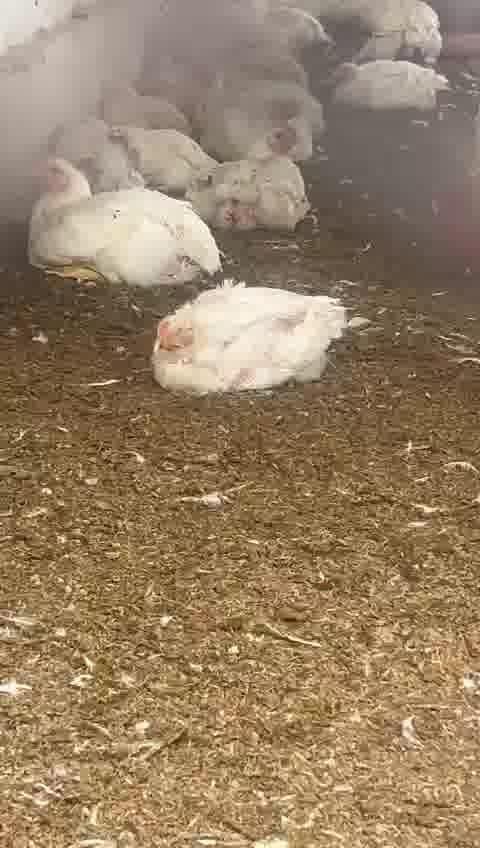AbNormal: (146, 276, 348, 390), (72, 124, 207, 180), (327, 57, 460, 109)
Normal: (25, 158, 216, 294), (210, 124, 324, 243)
